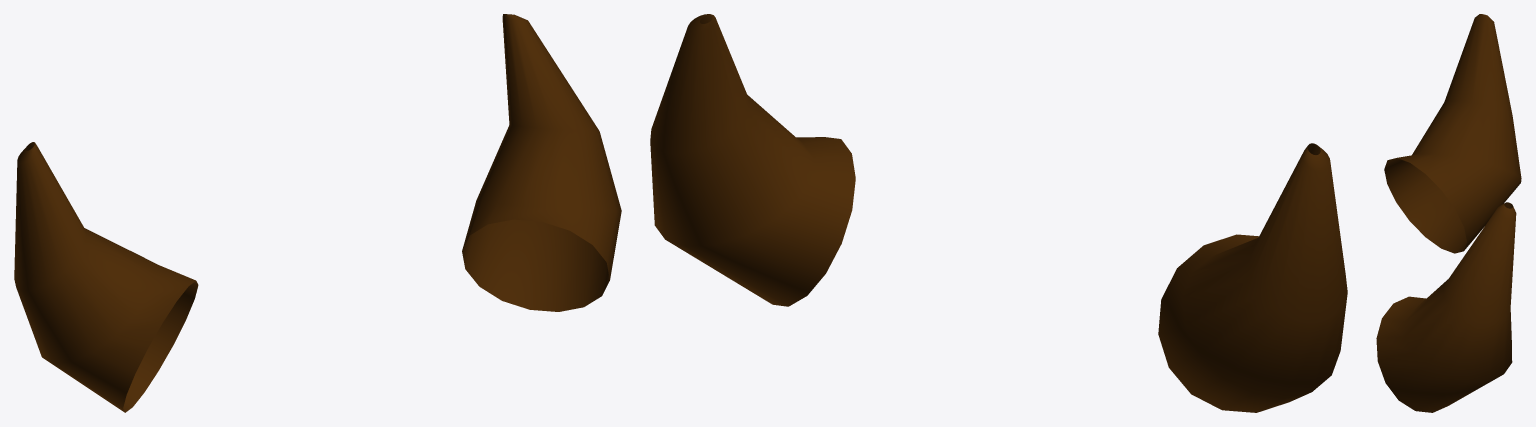
File: Extra_Horns.fbx
3 renders of one model, left to right at view 1: azimuth 30°, elevation 25°; view 2: azimuth 150°, elevation 25°; view 3: azimuth 270°, elevation 25°, orthographic. The views are drawn at different scales.
Parts seen in each view (by area): view 1: Horns; view 2: Horns; view 3: Horns.
Part boxes in pixels (x1,y1,x2,y2): Horns: (14, 14, 621, 412); Horns: (650, 14, 1347, 412); Horns: (1376, 14, 1521, 412).
Size of the model in its own units: 0.3437 by 1.25 by 0.5492.
